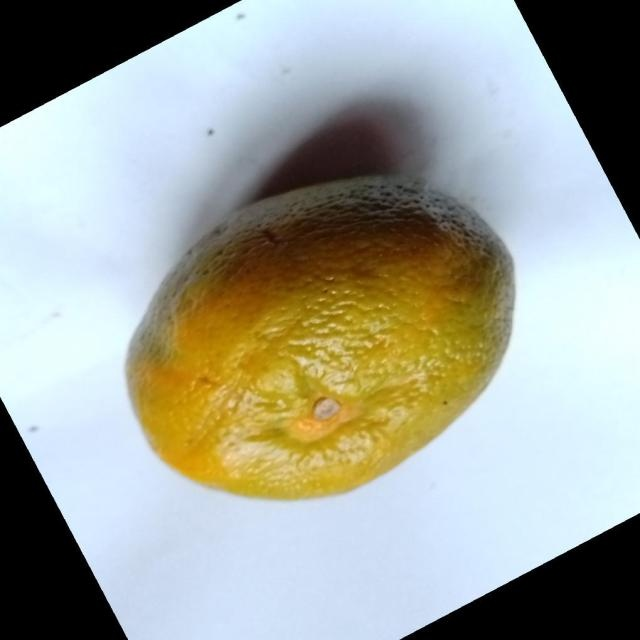agrume: (124, 171, 516, 501)
